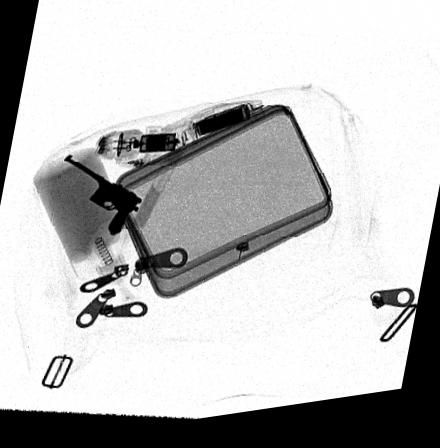Gun: (61, 154, 143, 241)
